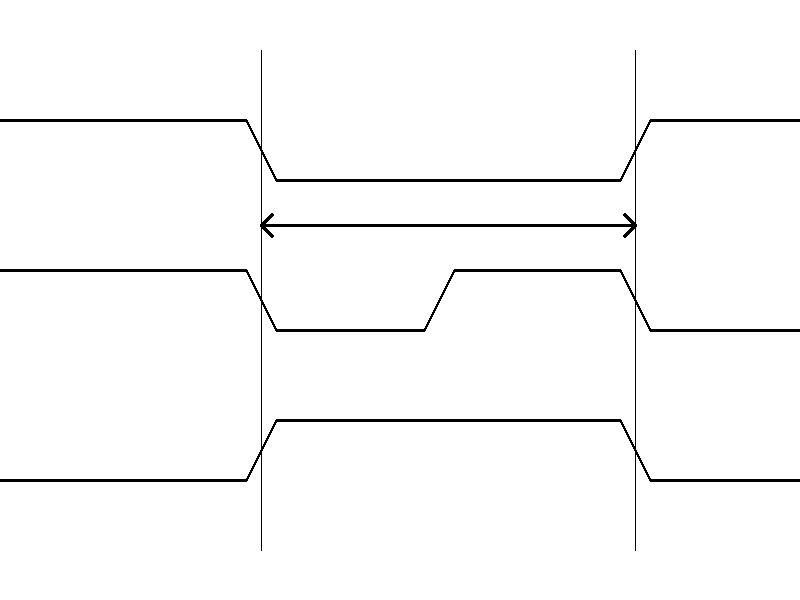double_arrow: (261, 210, 635, 240)
